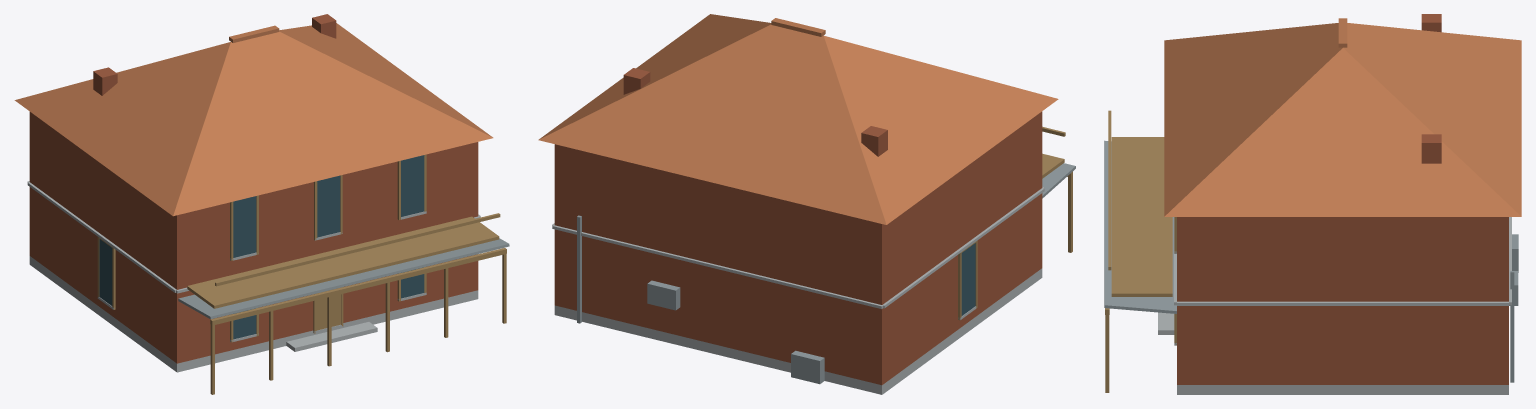
File: terrace-double.glb
The picture shows the model from 3 angles, left to right: view 1: azimuth 30°, elevation 25°; view 2: azimuth 150°, elevation 25°; view 3: azimuth 270°, elevation 25°; orthographic projection. The views are drawn at different scales.
Visible parts, largest first — view 1: roof-hip, wall-envelope, verandah-balcony-deck, ground-contact-plinth, verandah-roof-plane, verandah-front-beam, verandah-balustrade-front, opening-front-upper-centre, opening-front-upper-left, opening-front-upper-right, entrance-step, opening-west-ground-sash (+6 smaller); view 2: wall-envelope, roof-hip, ground-contact-plinth, storey-line-01-rear, opening-west-ground-sash, rear-service-bin-bank, storey-line-01-west, rear-service-ac-unit, chimney-00, chimney-01, rear-service-pipe, verandah-roof-plane; view 3: roof-hip, wall-envelope, verandah-balcony-deck, ground-contact-plinth, verandah-roof-plane, storey-line-01-east, verandah-balustrade-front, chimney-01, rear-service-pipe, verandah-post-05, entrance-step, chimney-00.
Boxes of the visible parts, <box> form: roof-hip: <box>14,23,493,216</box>; wall-envelope: <box>29,112,478,363</box>; verandah-balcony-deck: <box>187,216,499,308</box>; ground-contact-plinth: <box>29,256,478,372</box>; verandah-roof-plane: <box>178,238,509,319</box>; verandah-front-beam: <box>210,248,506,325</box>; verandah-balustrade-front: <box>215,213,500,286</box>; opening-front-upper-centre: <box>317,175,340,237</box>; opening-front-upper-left: <box>233,196,256,257</box>; opening-front-upper-right: <box>401,155,424,216</box>; entrance-step: <box>286,322,377,351</box>; opening-west-ground-sash: <box>99,239,112,305</box>; wall-envelope: <box>554,111,1042,385</box>; roof-hip: <box>538,14,1058,224</box>; ground-contact-plinth: <box>554,268,1042,394</box>; storey-line-01-rear: <box>552,225,883,308</box>; opening-west-ground-sash: <box>961,243,975,315</box>; rear-service-bin-bank: <box>791,350,824,384</box>; storey-line-01-west: <box>882,188,1044,308</box>; rear-service-ac-unit: <box>647,280,680,310</box>; chimney-00: <box>861,126,887,156</box>; chimney-01: <box>623,68,650,94</box>; rear-service-pipe: <box>577,215,581,323</box>; verandah-roof-plane: <box>1042,163,1075,198</box>; roof-hip: <box>1164,23,1521,216</box>; wall-envelope: <box>1177,217,1508,384</box>; verandah-balcony-deck: <box>1111,137,1172,296</box>; ground-contact-plinth: <box>1177,385,1508,394</box>; verandah-roof-plane: <box>1104,140,1176,313</box>; storey-line-01-east: <box>1177,301,1508,305</box>; verandah-balustrade-front: <box>1108,110,1111,270</box>; chimney-01: <box>1421,134,1441,163</box>; rear-service-pipe: <box>1510,271,1514,382</box>; verandah-post-05: <box>1105,312,1109,392</box>; entrance-step: <box>1158,312,1174,334</box>; chimney-00: <box>1421,14,1441,32</box>.
Size of the model in its own units: 13.2 by 9.8 by 13.2.
